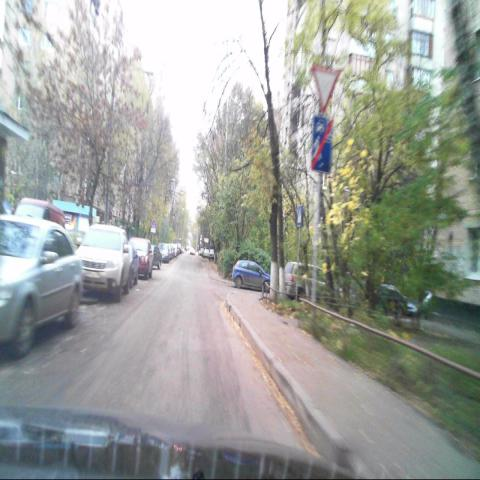5_22: (312, 115, 332, 175)
